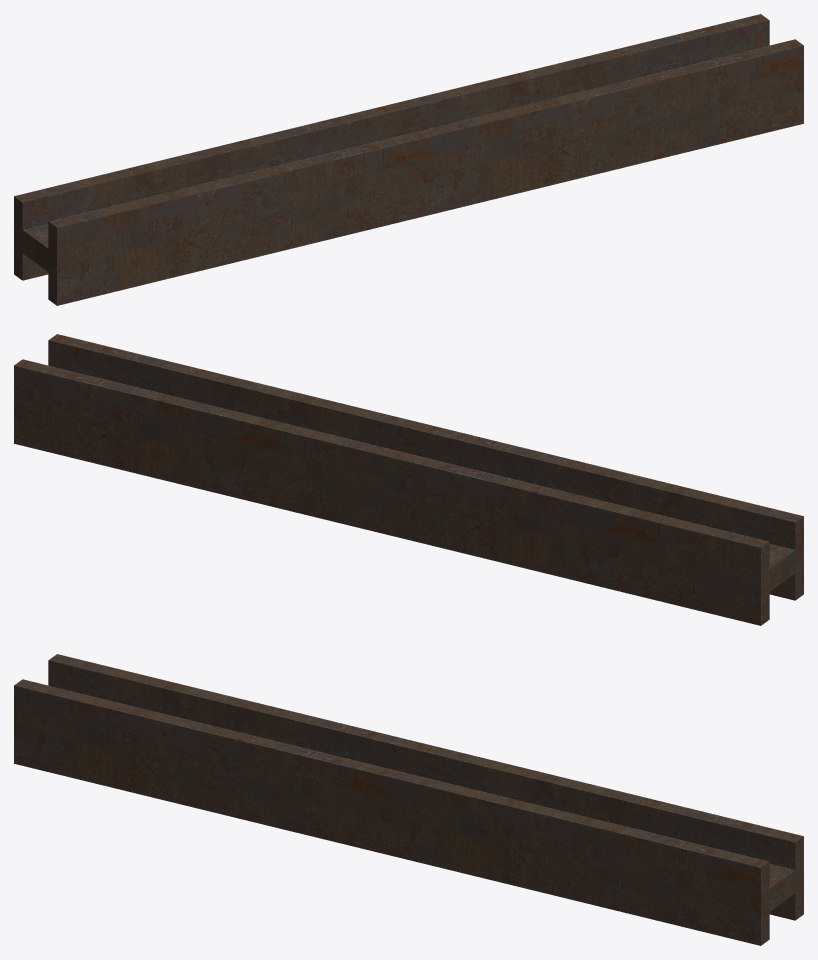
The model's file is SM_Bulk_2m_A.fbx.
3 renders of one model, top to bottom at view 1: azimuth 30°, elevation 25°; view 2: azimuth 150°, elevation 25°; view 3: azimuth 330°, elevation 25°, orthographic.
Parts seen in each view (by area): view 1: SM_Bulk_2m_A; view 2: SM_Bulk_2m_A; view 3: SM_Bulk_2m_A.
Boxes of the visible parts, left/top/right/bottom form: SM_Bulk_2m_A: left=14, top=14, right=803, bottom=305; SM_Bulk_2m_A: left=14, top=334, right=803, bottom=625; SM_Bulk_2m_A: left=14, top=654, right=803, bottom=945.
Size of the model in its own units: 200 by 20 by 20.
